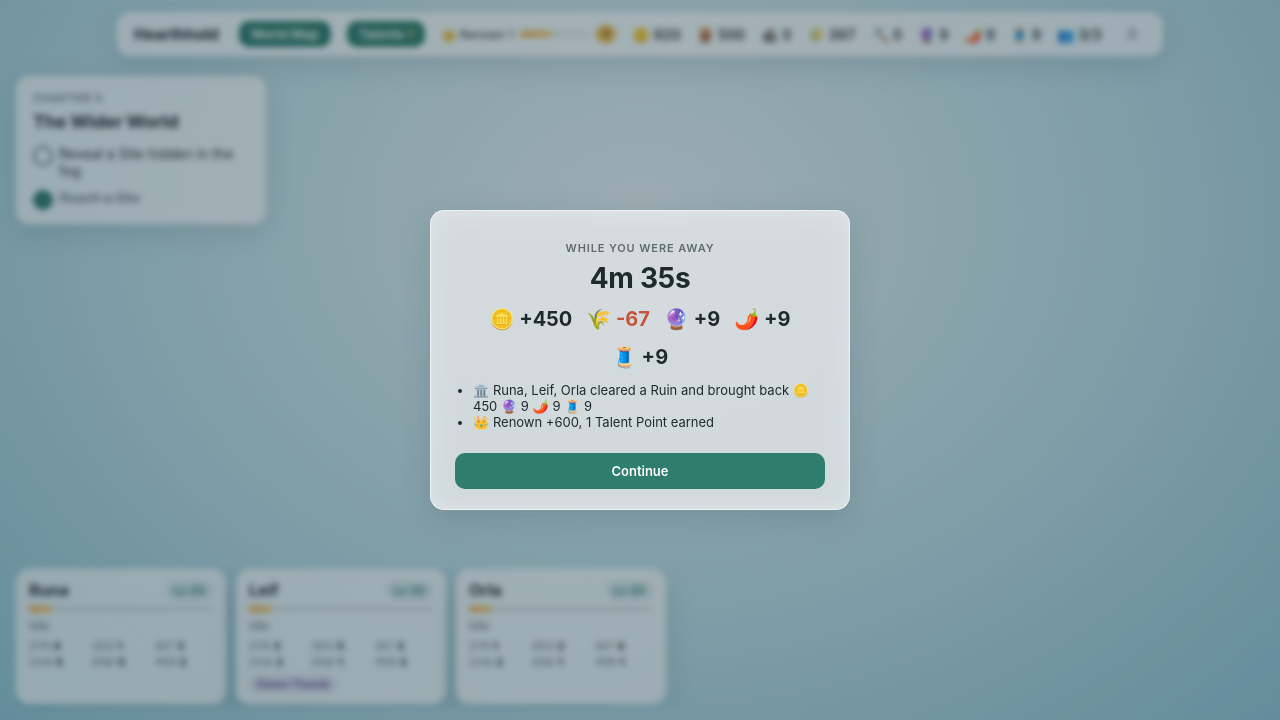
Test: a Ruin cleared while the game was closed is in the Report, and its panel shows it cleared
Expected: the list item "cleared a Ruin" is shown, [473,382,809,414]
Click the button "Continue" at (640, 471), box [455,453,825,489]
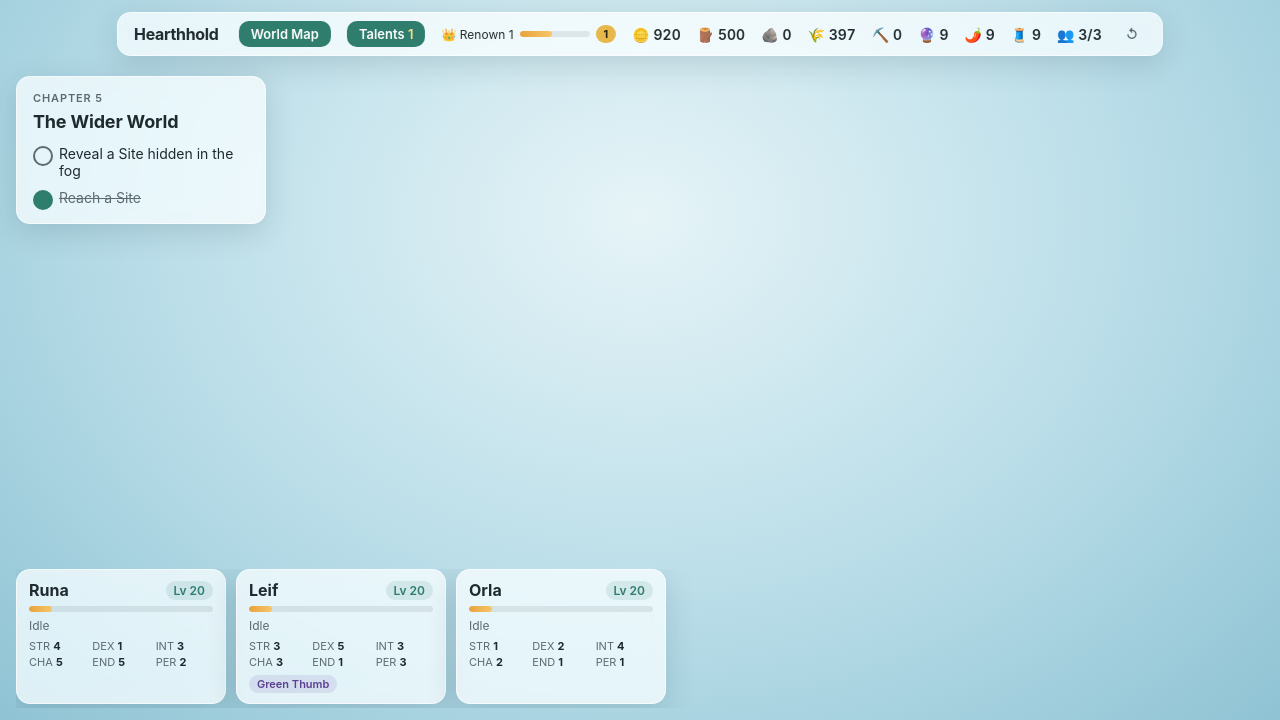
Click the button "World Map" at (285, 34), box [239,21,331,47]
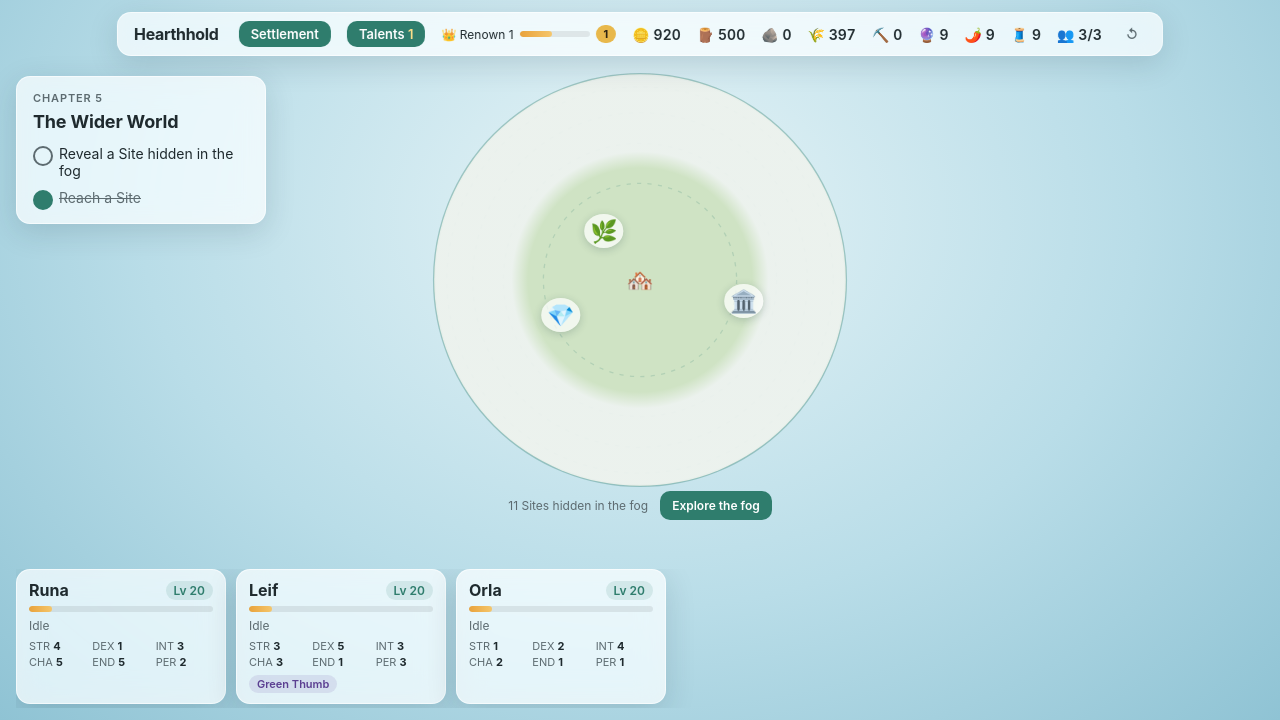
Click the button "🏛️" at (744, 301), box [724,284,764,318]
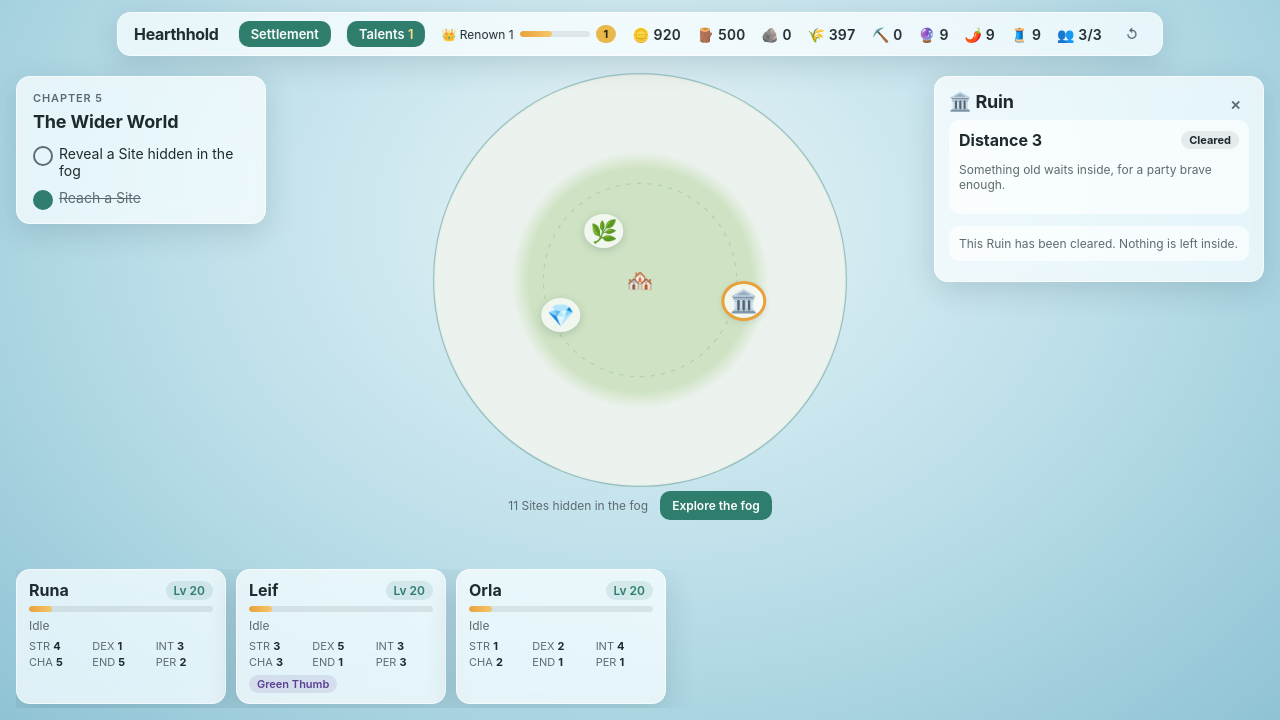
Now the text "Cleared" is shown, box [1181,131,1239,149]
